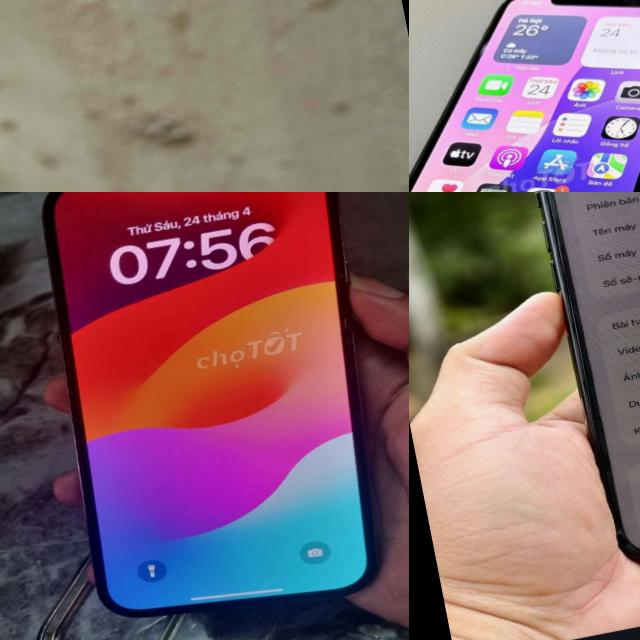gen_12_13: (13, 192, 409, 640)
gen_15: (501, 192, 640, 600)
gen_x_xs: (409, 0, 640, 192)
